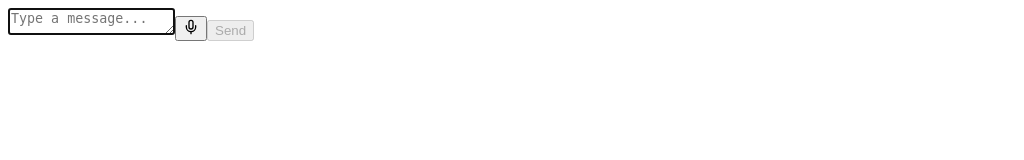
Test: voice button states › gives the mic button and the recording bar stop distinct names
Step 1. Click the button named "Start voice input" → (191, 28), box [175,16,207,41]
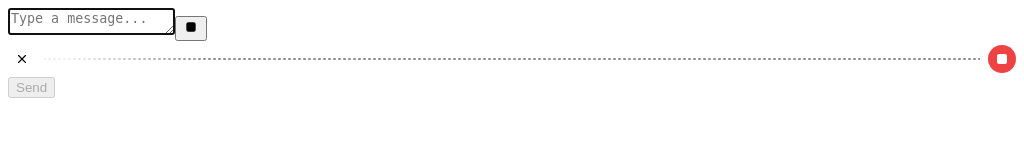
expect the element named "Stop and insert text" is shown: met, box [8,41,1016,77]
expect the button named "Cancel recording" is shown: met, box [8,45,36,73]
